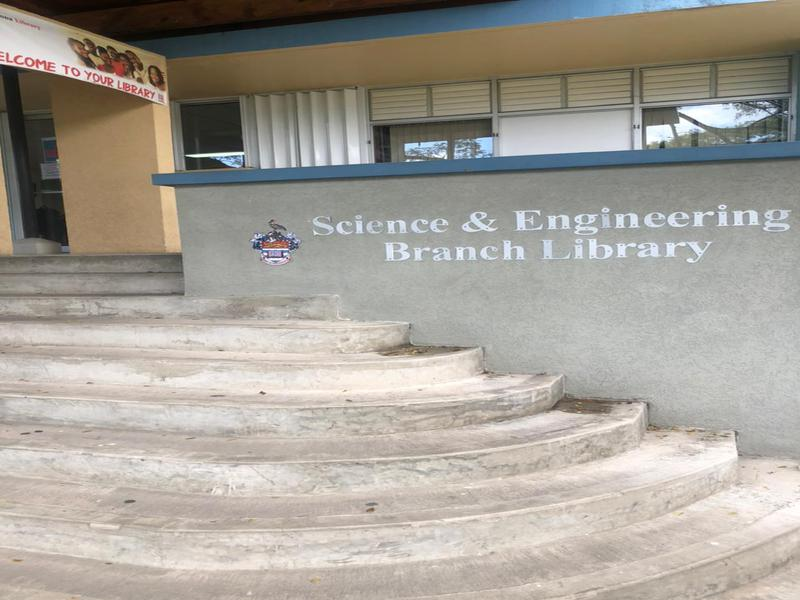st_label: (242, 206, 800, 302)
